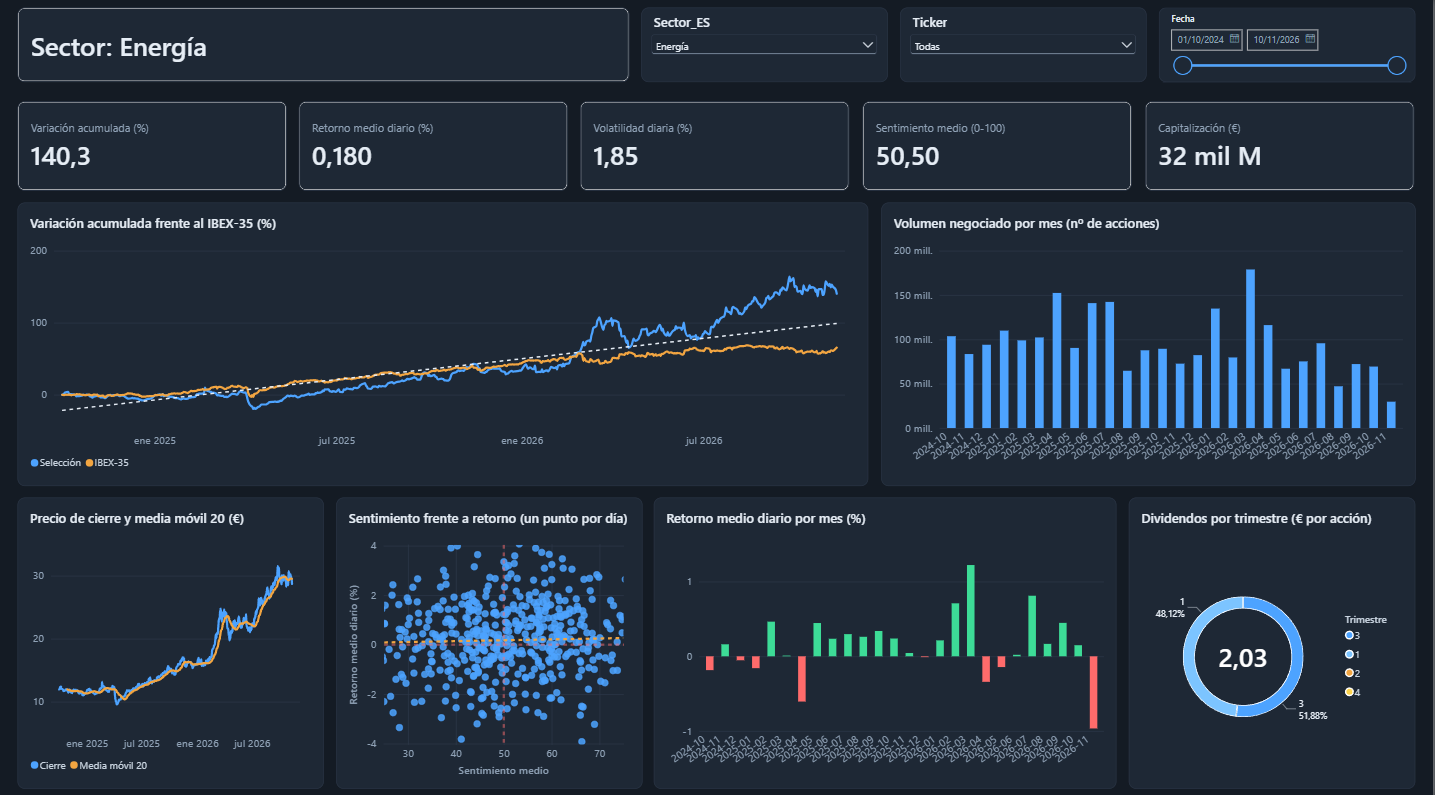

The dashboard page shown, as its layout file describes it:
{"tool":"powerbi","page":{"name":"Dashboard","canvas":[1920,1080],"ordinal":3},"visuals":[{"type":"slicer","fields":{"Values":["Empresa.Sector_ES"]},"box":[753.5,31.4,280.8,68],"z":0},{"type":"slicer","fields":{"Values":["Empresa.Ticker"]},"box":[1055.2,26.2,280.8,80.2],"z":1000},{"type":"slicer","fields":{"Values":["Fecha.Fecha"]},"box":[1360.5,19.2,280.8,95.9],"z":2000},{"type":"cardVisual","fields":{"Data":["Hechos.Variacion Acumulada"]},"box":[36.6,115.1,218,174.4],"z":3000},{"type":"cardVisual","fields":{"Data":["Hechos.Retorno Medio Diario"]},"box":[375,115.1,218,174.4],"z":4000},{"type":"cardVisual","fields":{"Data":["Hechos.Volatilidad Diaria"]},"box":[741.3,115.1,218,174.4],"z":5000},{"type":"cardVisual","fields":{"Data":["Hechos.Sentimiento Medio"]},"box":[1088.4,115.1,218,174.4],"z":6000},{"type":"cardVisual","fields":{"Data":["Hechos.Capitalizacion Total"]},"box":[1447.7,115.1,218,174.4],"z":7000},{"type":"lineChart","fields":{"Category":["Fecha.Fecha"],"Y":["Hechos.Var Acum Seleccion","Hechos.Var Acum IBEX"]},"box":[43.6,314,1058.7,376.7],"z":8000},{"type":"clusteredColumnChart","fields":{"Category":["Fecha.AnioMes"],"Y":["Sum(Hechos.Volume)"]},"box":[1133.7,314,736,376.7],"z":9000},{"type":"lineChart","fields":{"Category":["Fecha.Fecha"],"Y":["Avg(Hechos.Close)","Avg(Hechos.Media_Movil_20)"]},"box":[66.3,711.6,395.9,322.7],"z":10000},{"type":"scatterChart","fields":{"Category":["Fecha.Fecha"],"X":["Hechos.Sentimiento Medio"],"Y":["Hechos.Retorno Medio Diario"]},"box":[462.2,711.6,444.8,322.7],"z":11000},{"type":"clusteredColumnChart","fields":{"Category":["Fecha.AnioMes"],"Y":["Hechos.Retorno Medio Diario"]},"box":[907,711.6,610.5,322.7],"z":12000},{"type":"donutChart","fields":{"Category":["Fecha.Trimestre"],"Y":["Sum(Hechos.Dividends)"]},"box":[1517.4,711.6,385.5,322.7],"z":13000},{"type":"cardVisual","fields":{"Data":["Hechos.Titulo Dashboard"]},"box":[66.3,19.2,556.4,75],"z":13001}]}

Visuals, with their boxes in screenshot pixels (x1, y1, x2, y2), scaled from the page's 1920x1080 canvas onto the 1435x795 screenshot:
slicer - Empresa.Sector_ES: (left=563, top=23, right=773, bottom=73)
slicer - Empresa.Ticker: (left=789, top=19, right=999, bottom=78)
slicer - Fecha.Fecha: (left=1017, top=14, right=1227, bottom=85)
cardVisual - Hechos.Variacion Acumulada: (left=27, top=85, right=190, bottom=213)
cardVisual - Hechos.Retorno Medio Diario: (left=280, top=85, right=443, bottom=213)
cardVisual - Hechos.Volatilidad Diaria: (left=554, top=85, right=717, bottom=213)
cardVisual - Hechos.Sentimiento Medio: (left=813, top=85, right=976, bottom=213)
cardVisual - Hechos.Capitalizacion Total: (left=1082, top=85, right=1245, bottom=213)
lineChart - Fecha.Fecha x Hechos.Var Acum Seleccion: (left=33, top=231, right=824, bottom=508)
clusteredColumnChart - Fecha.AnioMes x Sum(Hechos.Volume): (left=847, top=231, right=1397, bottom=508)
lineChart - Fecha.Fecha x Avg(Hechos.Close): (left=50, top=524, right=345, bottom=761)
scatterChart - Fecha.Fecha x Hechos.Sentimiento Medio: (left=345, top=524, right=678, bottom=761)
clusteredColumnChart - Fecha.AnioMes x Hechos.Retorno Medio Diario: (left=678, top=524, right=1134, bottom=761)
donutChart - Fecha.Trimestre x Sum(Hechos.Dividends): (left=1134, top=524, right=1422, bottom=761)
cardVisual - Hechos.Titulo Dashboard: (left=50, top=14, right=465, bottom=69)
